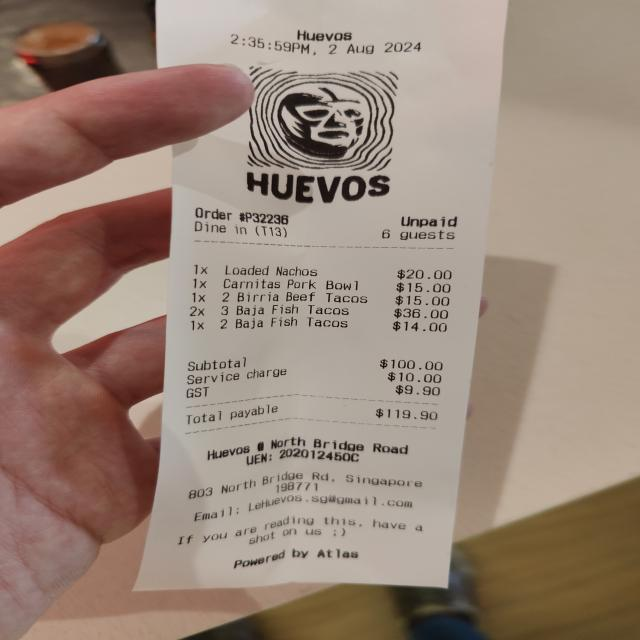bill_region: (184, 255, 455, 432)
